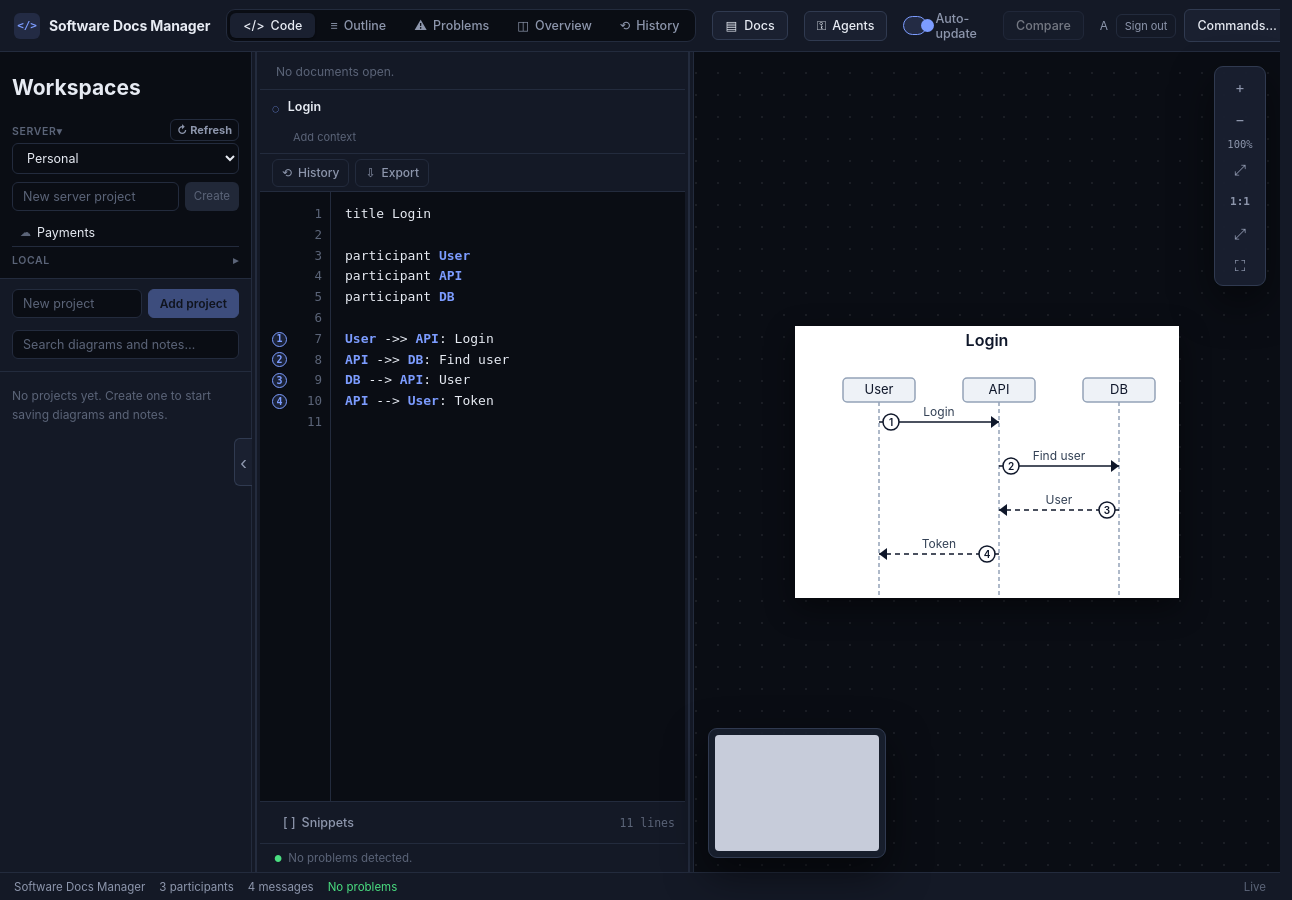
Test: App — authenticated browser › lists the server projects and opens one into the same editor
Click the button with test id "workspace-server-project": [126, 232] box 12,219 -> 239,246
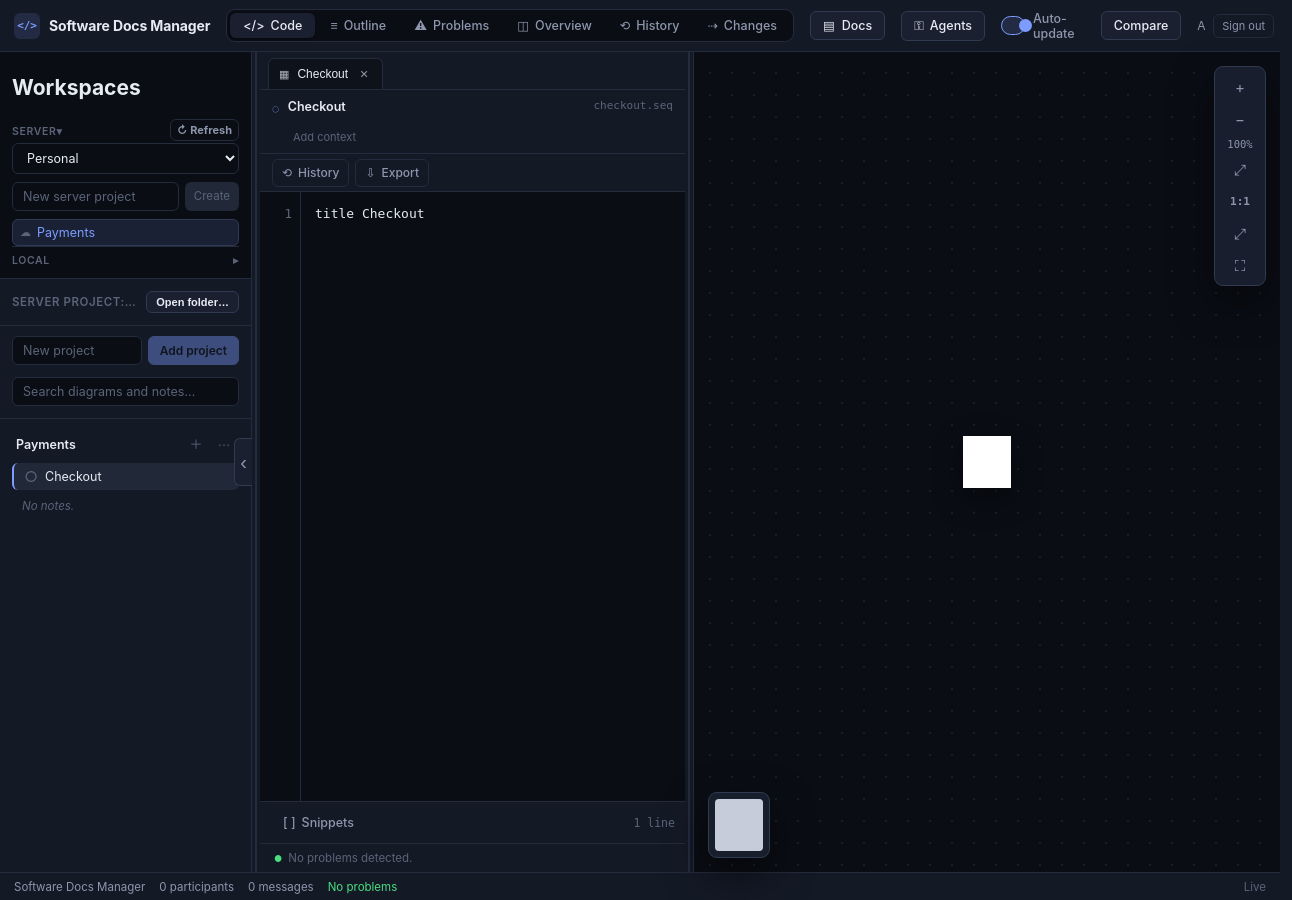
Expected: the text box with test id "dsl-textarea" holds "title Checkout", 301,192 -> 685,801
Expected: the list item with test id "explorer-diagram" shows "Checkout", 12,463 -> 215,490
Expected: the text with test id "explorer-mode" reads "Server project: Payments", 12,295 -> 196,309
